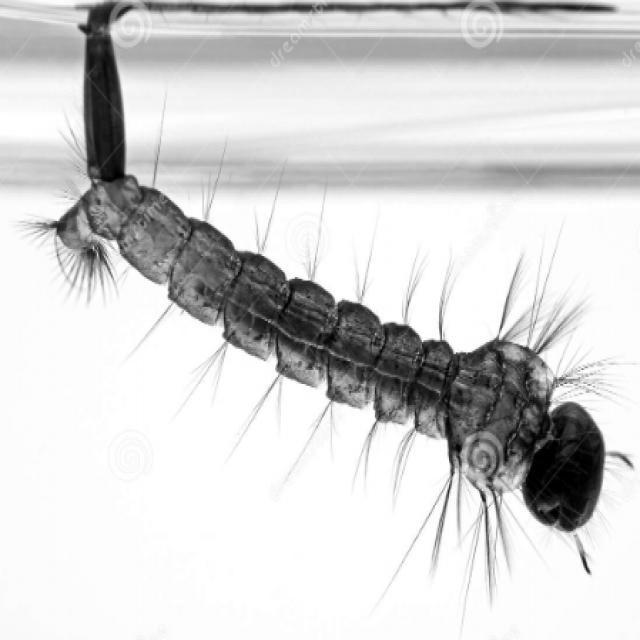larvas: (51, 2, 606, 530)
